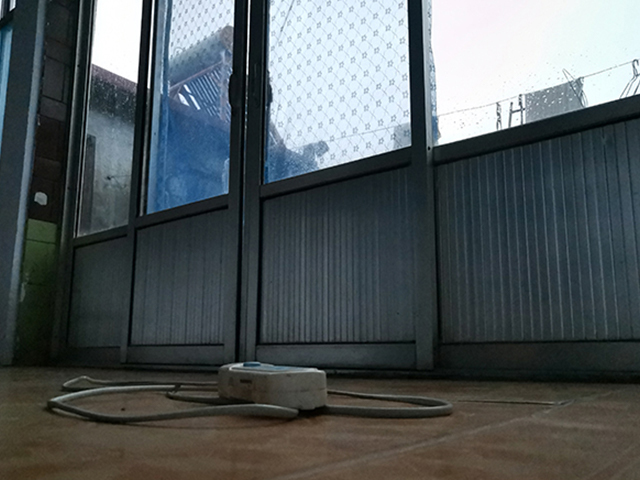wire: (42, 360, 454, 427)
